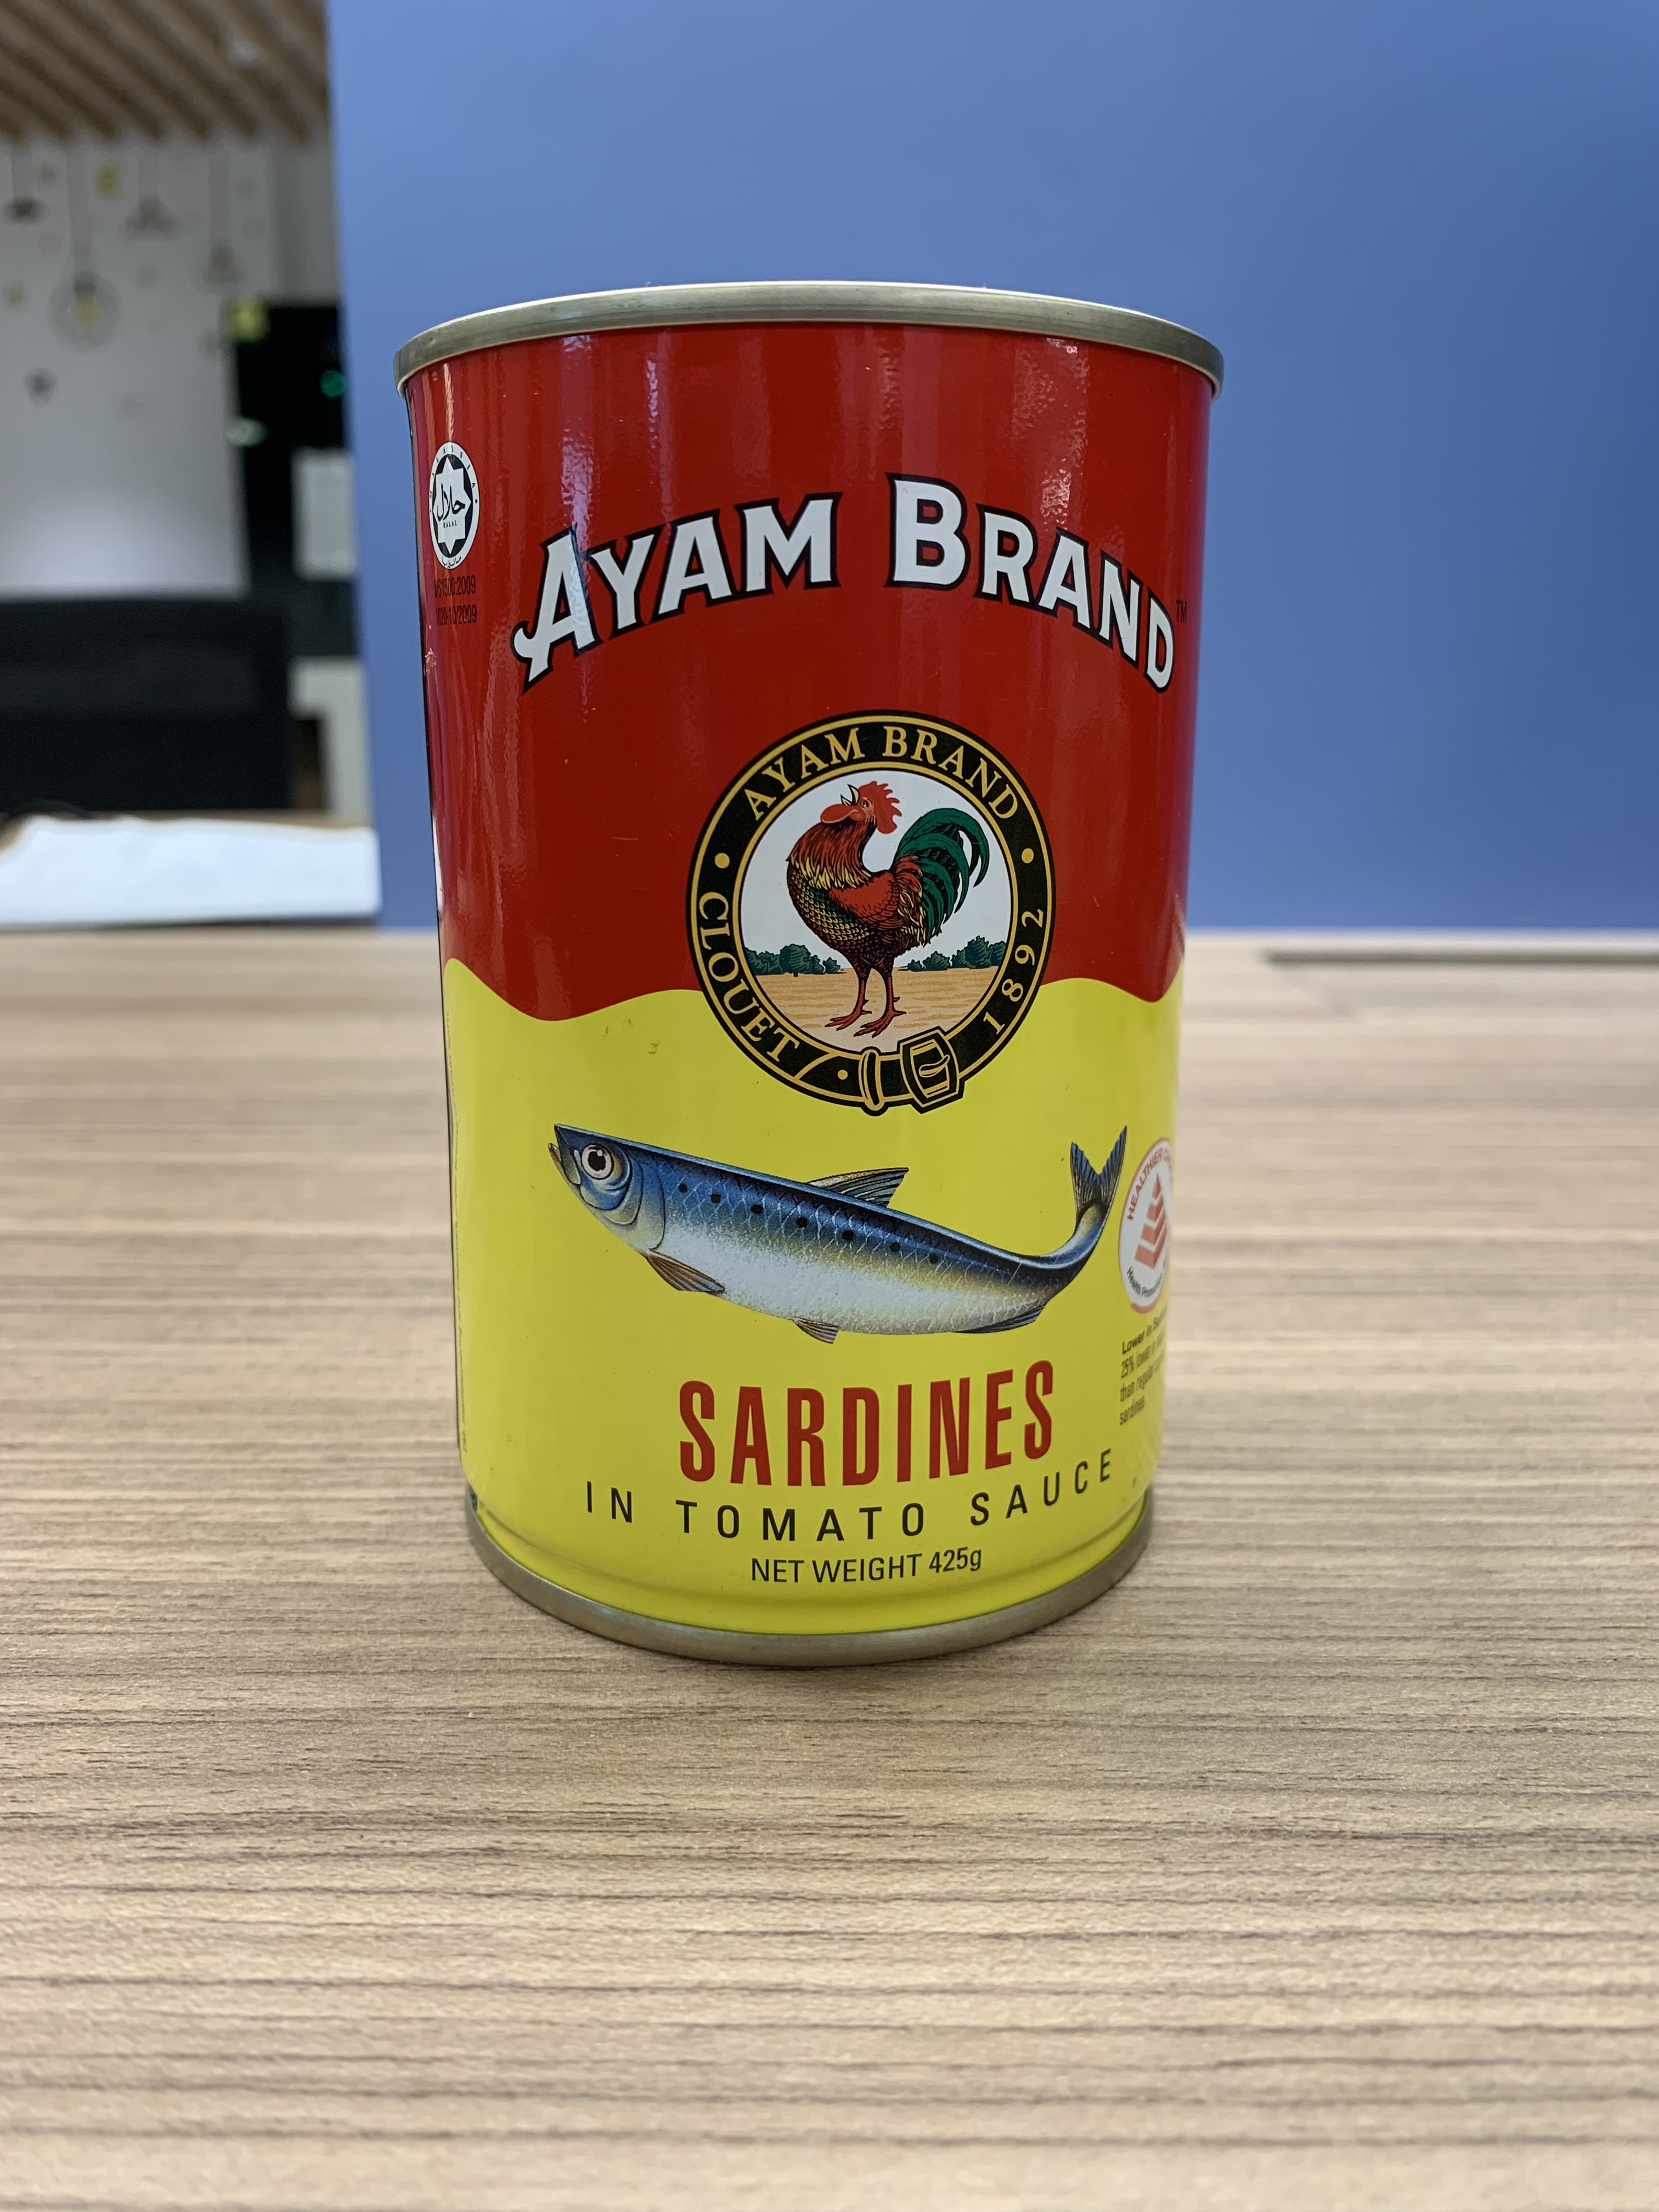halal: (432, 455, 472, 557)
